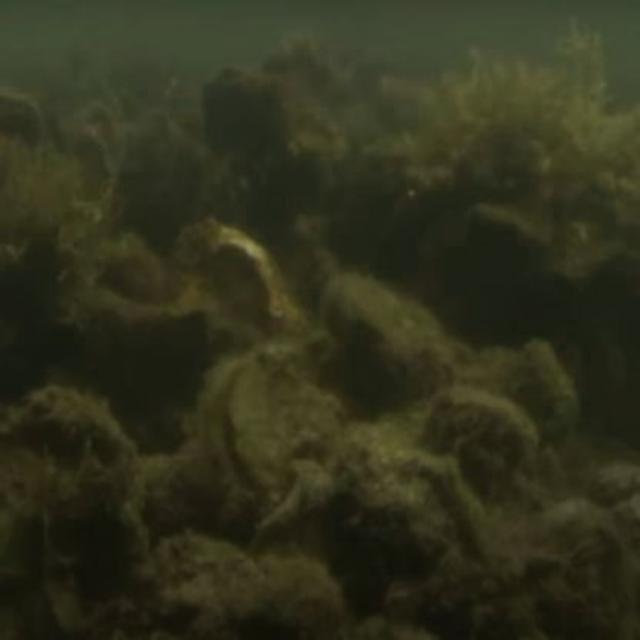Oyster-Closed: (327, 277, 447, 402), (429, 387, 539, 461)
Oyster-Open: (216, 347, 344, 506)
